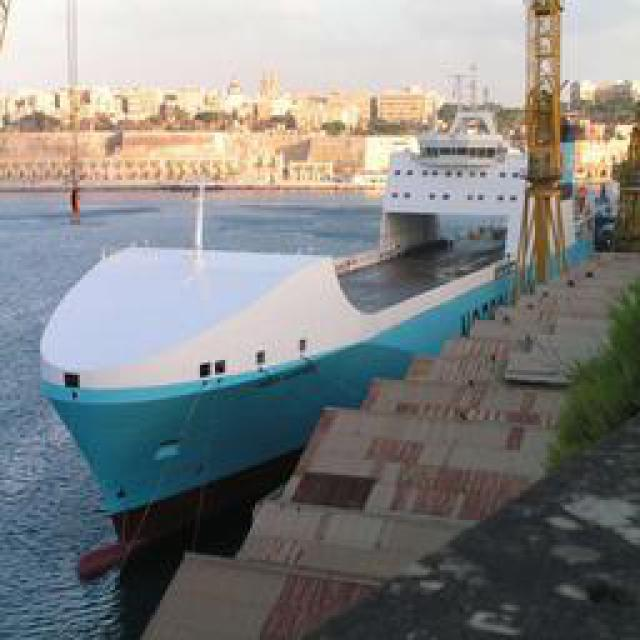Ship: (50, 119, 533, 579)
